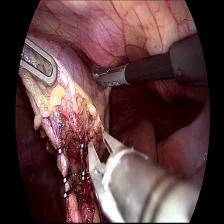Clipper: (86, 129, 152, 223)
Grasper: (17, 36, 57, 87), (91, 62, 129, 89)
